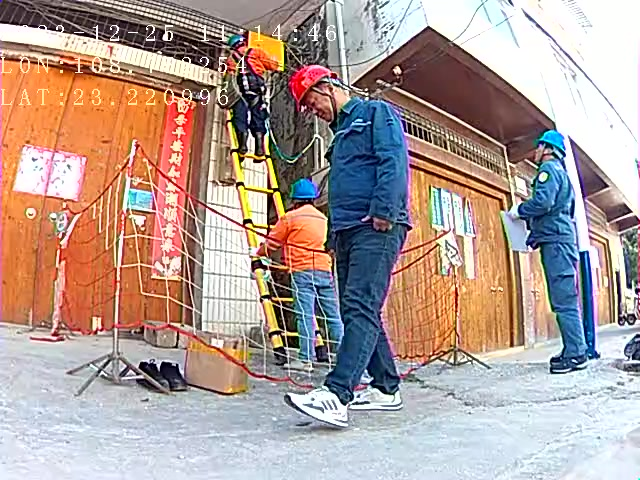downcloth: (333, 228, 410, 392)
downsuit: (536, 240, 593, 357), (228, 75, 273, 132)
halt: (287, 60, 351, 120), (536, 130, 565, 162), (290, 178, 322, 204), (224, 32, 247, 48)
hand: (361, 216, 393, 234), (253, 246, 267, 257)
inear: (310, 80, 343, 117), (536, 143, 557, 166)
person: (305, 64, 414, 398), (510, 129, 629, 371), (262, 177, 331, 360), (223, 31, 284, 156)
shoe: (250, 131, 267, 162), (232, 132, 250, 157)
sleeve: (537, 171, 551, 186)
upsuit: (329, 100, 413, 230), (520, 152, 585, 242)
yupsuit: (252, 197, 333, 275), (220, 47, 280, 78)
